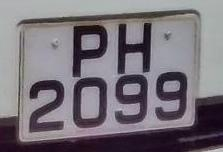0: (66, 70, 113, 133)
2: (23, 70, 72, 140)
9: (108, 70, 159, 129), (151, 66, 193, 124)
H: (110, 16, 162, 81)
P: (62, 20, 116, 81)
